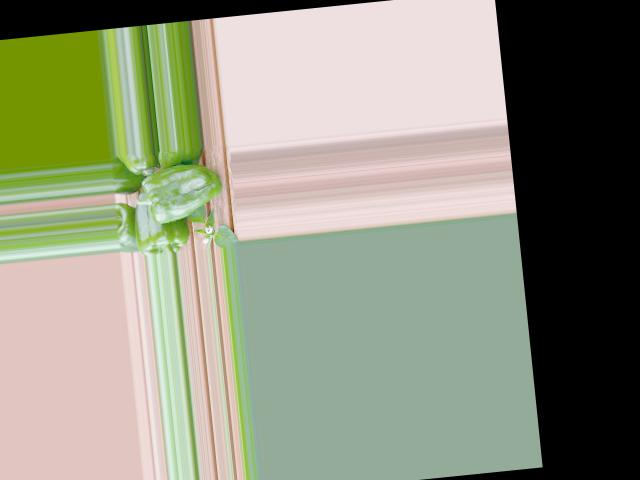bell_pepper: (114, 151, 153, 180)
